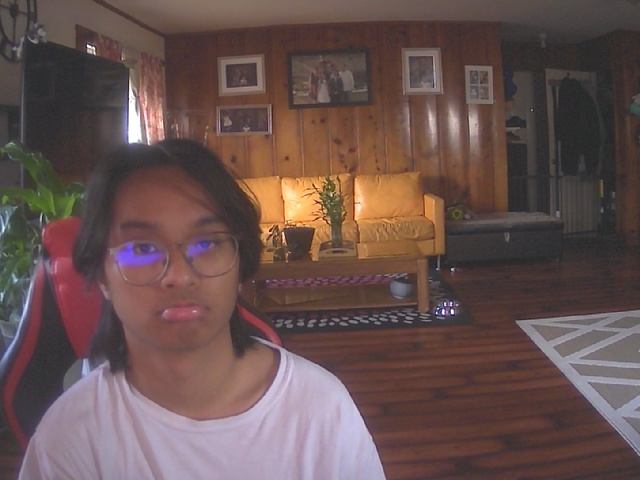sad: (87, 145, 250, 353)
